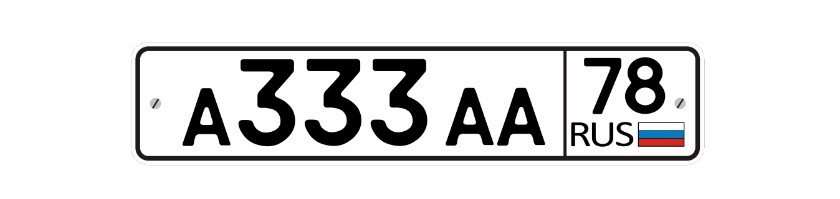number_plate: (139, 49, 695, 146)
